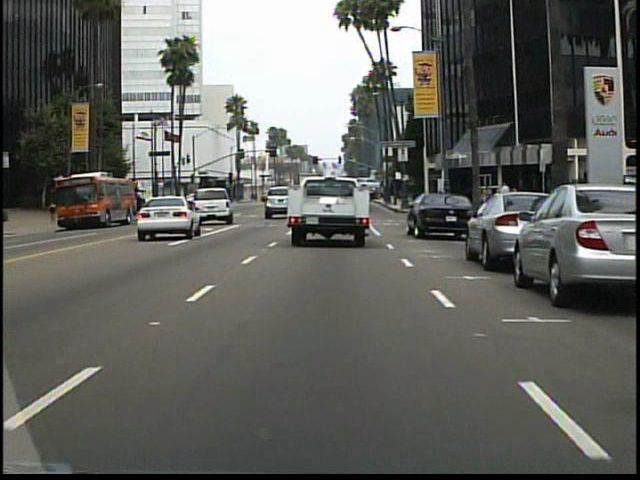person: (496, 178, 514, 218), (48, 196, 60, 229)
